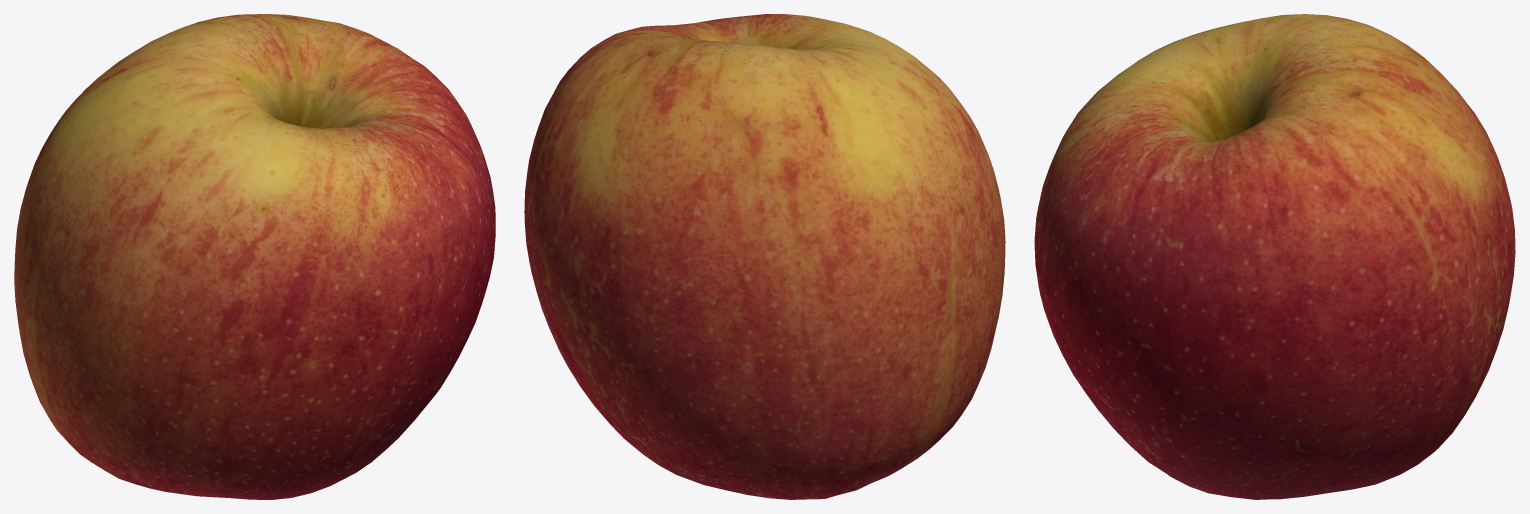
File: head.glb
3 renders of one model, left to right at view 1: azimuth 30°, elevation 25°; view 2: azimuth 150°, elevation 25°; view 3: azimuth 270°, elevation 25°, orthographic. The views are drawn at different scales.
Parts seen in each view (by area): view 1: apple_mesh; view 2: apple_mesh; view 3: apple_mesh.
Part boxes in pixels (left/top/right/bottom): apple_mesh: left=14, top=14, right=495, bottom=499; apple_mesh: left=524, top=14, right=1005, bottom=499; apple_mesh: left=1034, top=14, right=1515, bottom=499.
Bounding box in the file's own units: 0.317 × 0.2994 × 0.3094.
1 material, 1 textured.
